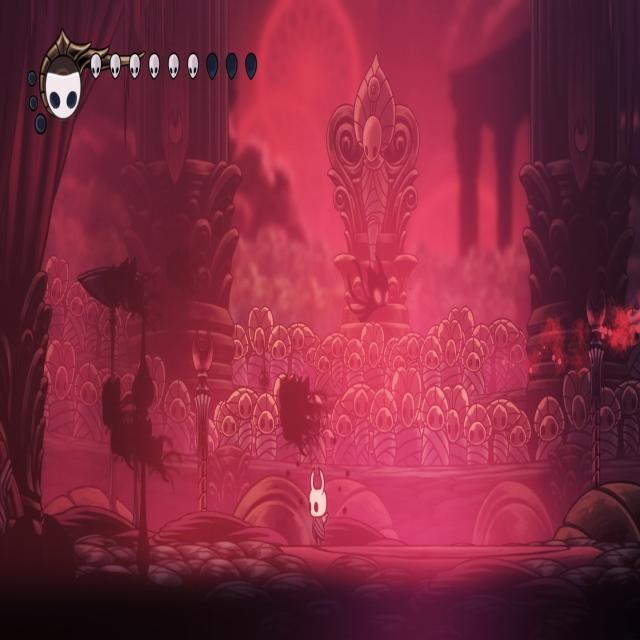Player: (307, 462, 330, 547)
Staggered_Grimm: (345, 249, 392, 329)
